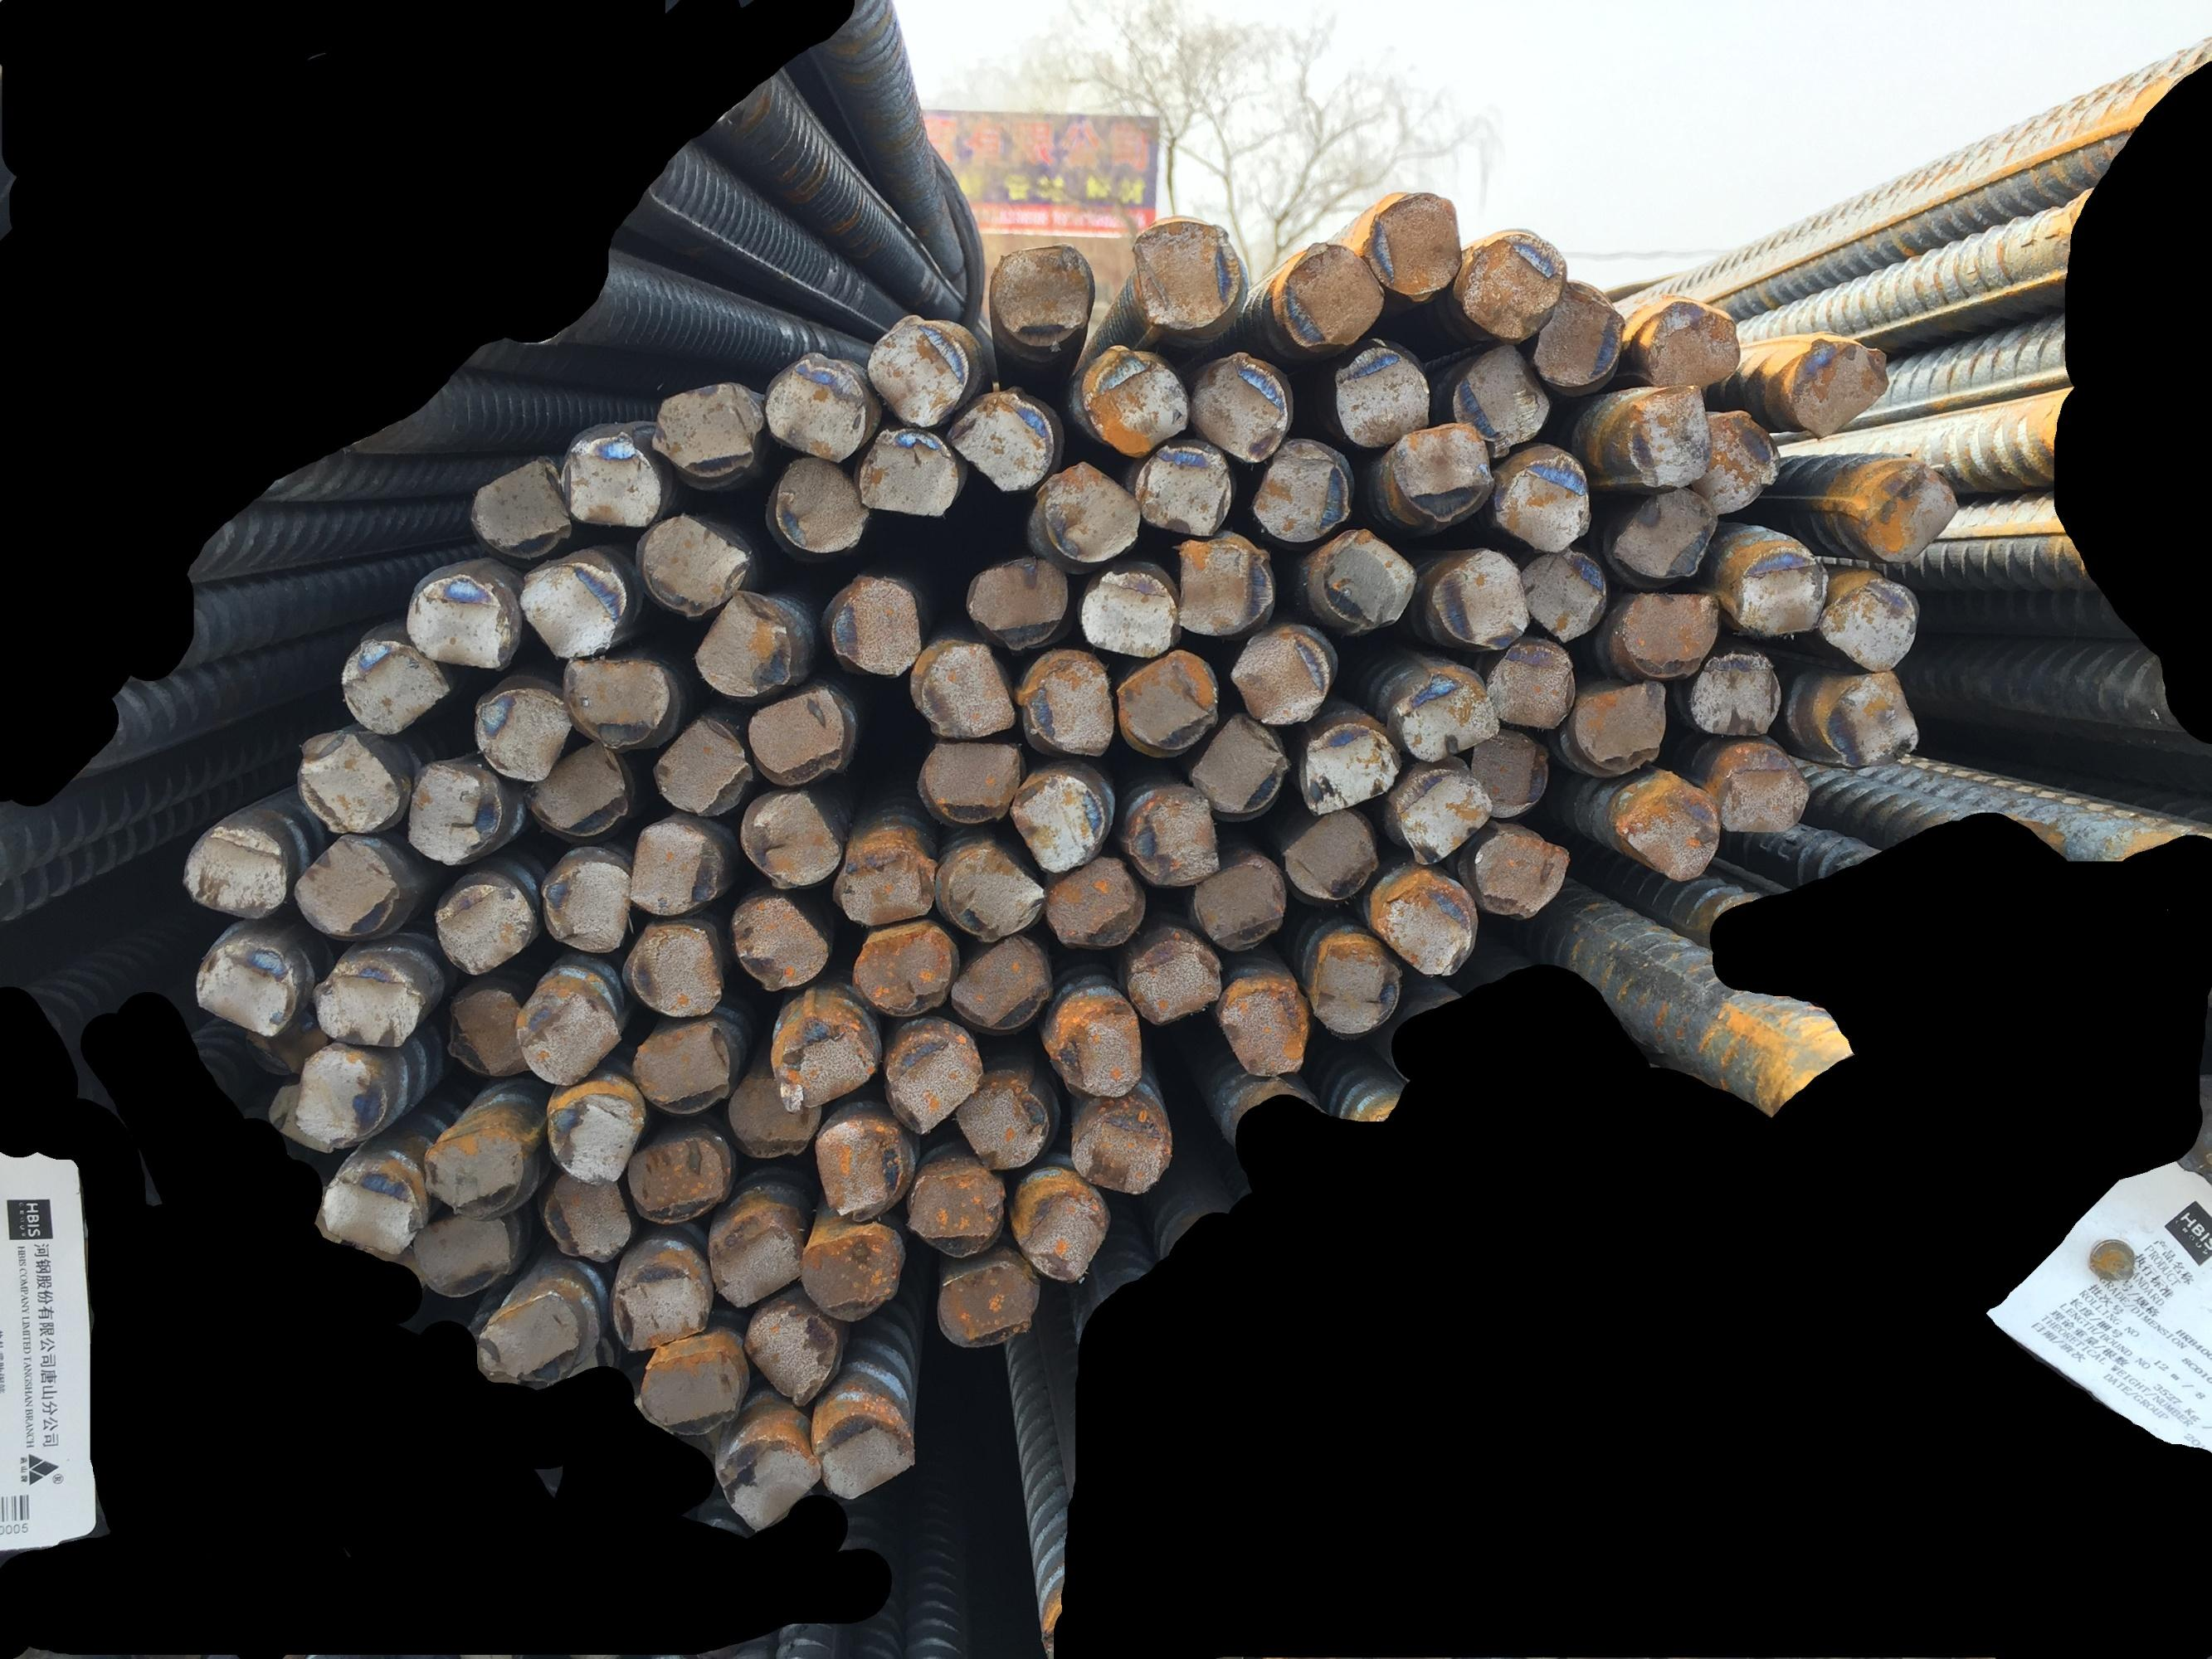bar: (1452, 223, 1572, 349), (1180, 343, 1297, 472), (1126, 211, 1246, 335), (1075, 338, 1194, 464), (1354, 185, 1469, 308), (631, 505, 753, 620), (1175, 706, 1297, 821), (765, 995, 882, 1114), (1109, 645, 1225, 763), (1241, 429, 1356, 547), (760, 347, 873, 467), (683, 582, 795, 704), (284, 828, 401, 943), (1028, 453, 1147, 566), (1841, 458, 1961, 570), (643, 375, 765, 484), (469, 1284, 593, 1392), (732, 777, 847, 892), (861, 314, 973, 432), (1422, 538, 1532, 659), (289, 727, 404, 840), (1781, 329, 1896, 443), (507, 981, 628, 1089), (1279, 235, 1388, 356), (941, 383, 1055, 495), (1164, 530, 1279, 640), (879, 1021, 985, 1140), (462, 450, 572, 563), (1368, 871, 1482, 981), (1386, 413, 1496, 526), (1447, 338, 1557, 451), (1612, 774, 1727, 882), (1314, 519, 1421, 636), (336, 633, 455, 737), (1604, 483, 1722, 587), (985, 242, 1096, 352), (647, 709, 755, 823), (1009, 1175, 1117, 1288), (1811, 568, 1924, 676), (1562, 673, 1677, 779), (401, 570, 518, 674), (514, 554, 631, 659), (556, 648, 675, 751), (723, 887, 835, 995), (1325, 340, 1433, 451), (518, 737, 634, 840), (807, 1110, 910, 1227), (1044, 985, 1147, 1101), (1271, 800, 1388, 903), (844, 920, 962, 1021), (173, 821, 293, 920), (940, 840, 1049, 948), (960, 545, 1070, 653), (737, 1298, 844, 1410), (1815, 666, 1926, 772), (417, 1121, 530, 1225), (1386, 662, 1503, 763), (1529, 272, 1628, 390), (1686, 401, 1783, 521), (621, 814, 729, 922), (1002, 767, 1110, 875), (763, 448, 873, 554), (910, 636, 1020, 742), (1302, 931, 1408, 1040), (622, 1014, 734, 1119), (940, 929, 1051, 1033), (1490, 443, 1595, 554), (849, 420, 962, 523), (1039, 850, 1152, 953), (1014, 647, 1117, 760), (804, 1401, 919, 1502), (1618, 376, 1715, 495), (741, 680, 847, 788), (1224, 622, 1332, 728), (1391, 762, 1496, 871), (617, 918, 729, 1021), (791, 1225, 905, 1326), (1611, 586, 1727, 683), (427, 877, 535, 981), (1210, 969, 1313, 1079), (713, 1431, 824, 1532), (1123, 779, 1224, 890), (187, 938, 300, 1037), (1515, 538, 1614, 652), (947, 1072, 1053, 1176), (1187, 852, 1292, 958), (1726, 538, 1832, 643), (554, 427, 662, 530), (1293, 714, 1403, 816), (1065, 1103, 1177, 1202), (633, 1344, 748, 1439), (542, 1084, 647, 1188), (823, 572, 924, 680), (1464, 824, 1572, 925), (1070, 563, 1180, 662), (933, 1255, 1046, 1351), (303, 964, 427, 1051), (467, 681, 572, 784), (532, 854, 636, 957), (622, 1129, 730, 1229), (912, 734, 1027, 826), (291, 1040, 394, 1143), (1637, 295, 1745, 392), (903, 1161, 1006, 1262), (1130, 441, 1236, 538), (317, 1166, 425, 1262), (722, 1070, 830, 1166), (708, 1209, 805, 1314), (537, 1166, 636, 1267), (1680, 645, 1783, 742), (1119, 934, 1224, 1030), (1461, 721, 1555, 828), (410, 1208, 518, 1300), (605, 1262, 713, 1352), (1482, 636, 1578, 737), (403, 758, 490, 868), (441, 983, 535, 1082), (830, 845, 940, 929), (1713, 758, 1816, 835), (232, 1004, 333, 1077), (261, 1079, 338, 1155)
